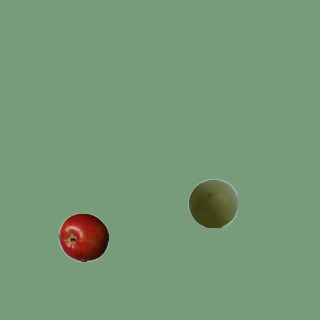Apple Braeburn: (58, 212, 108, 262)
Grape White 4: (187, 178, 237, 228)
